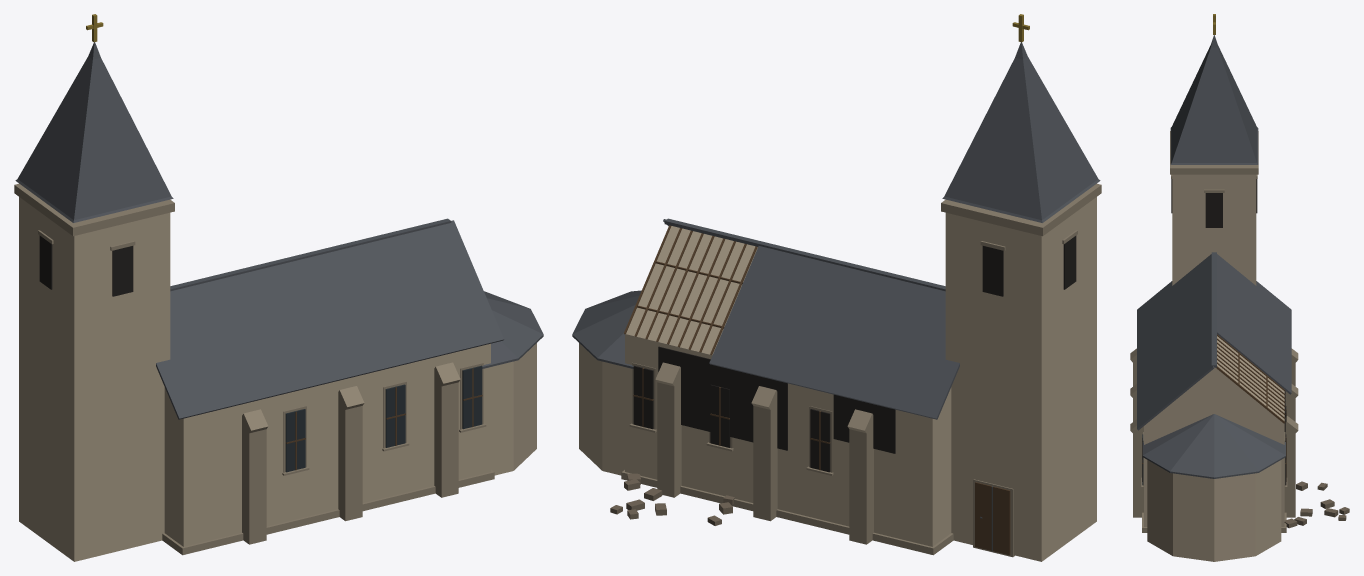
The model's file is church_damaged.glb.
The picture shows the model from 3 angles, left to right: view 1: azimuth 30°, elevation 25°; view 2: azimuth 150°, elevation 25°; view 3: azimuth 270°, elevation 25°; orthographic projection. The views are drawn at different scales.
Parts seen in each view (by area): view 1: church_damaged; view 2: church_damaged; view 3: church_damaged.
Part boxes in pixels (x1,y1,x2,y2): church_damaged: [14, 14, 543, 561]; church_damaged: [572, 14, 1101, 561]; church_damaged: [1130, 14, 1349, 561].
Bounding box in the file's own units: 25.35 × 25.69 × 13.1.
